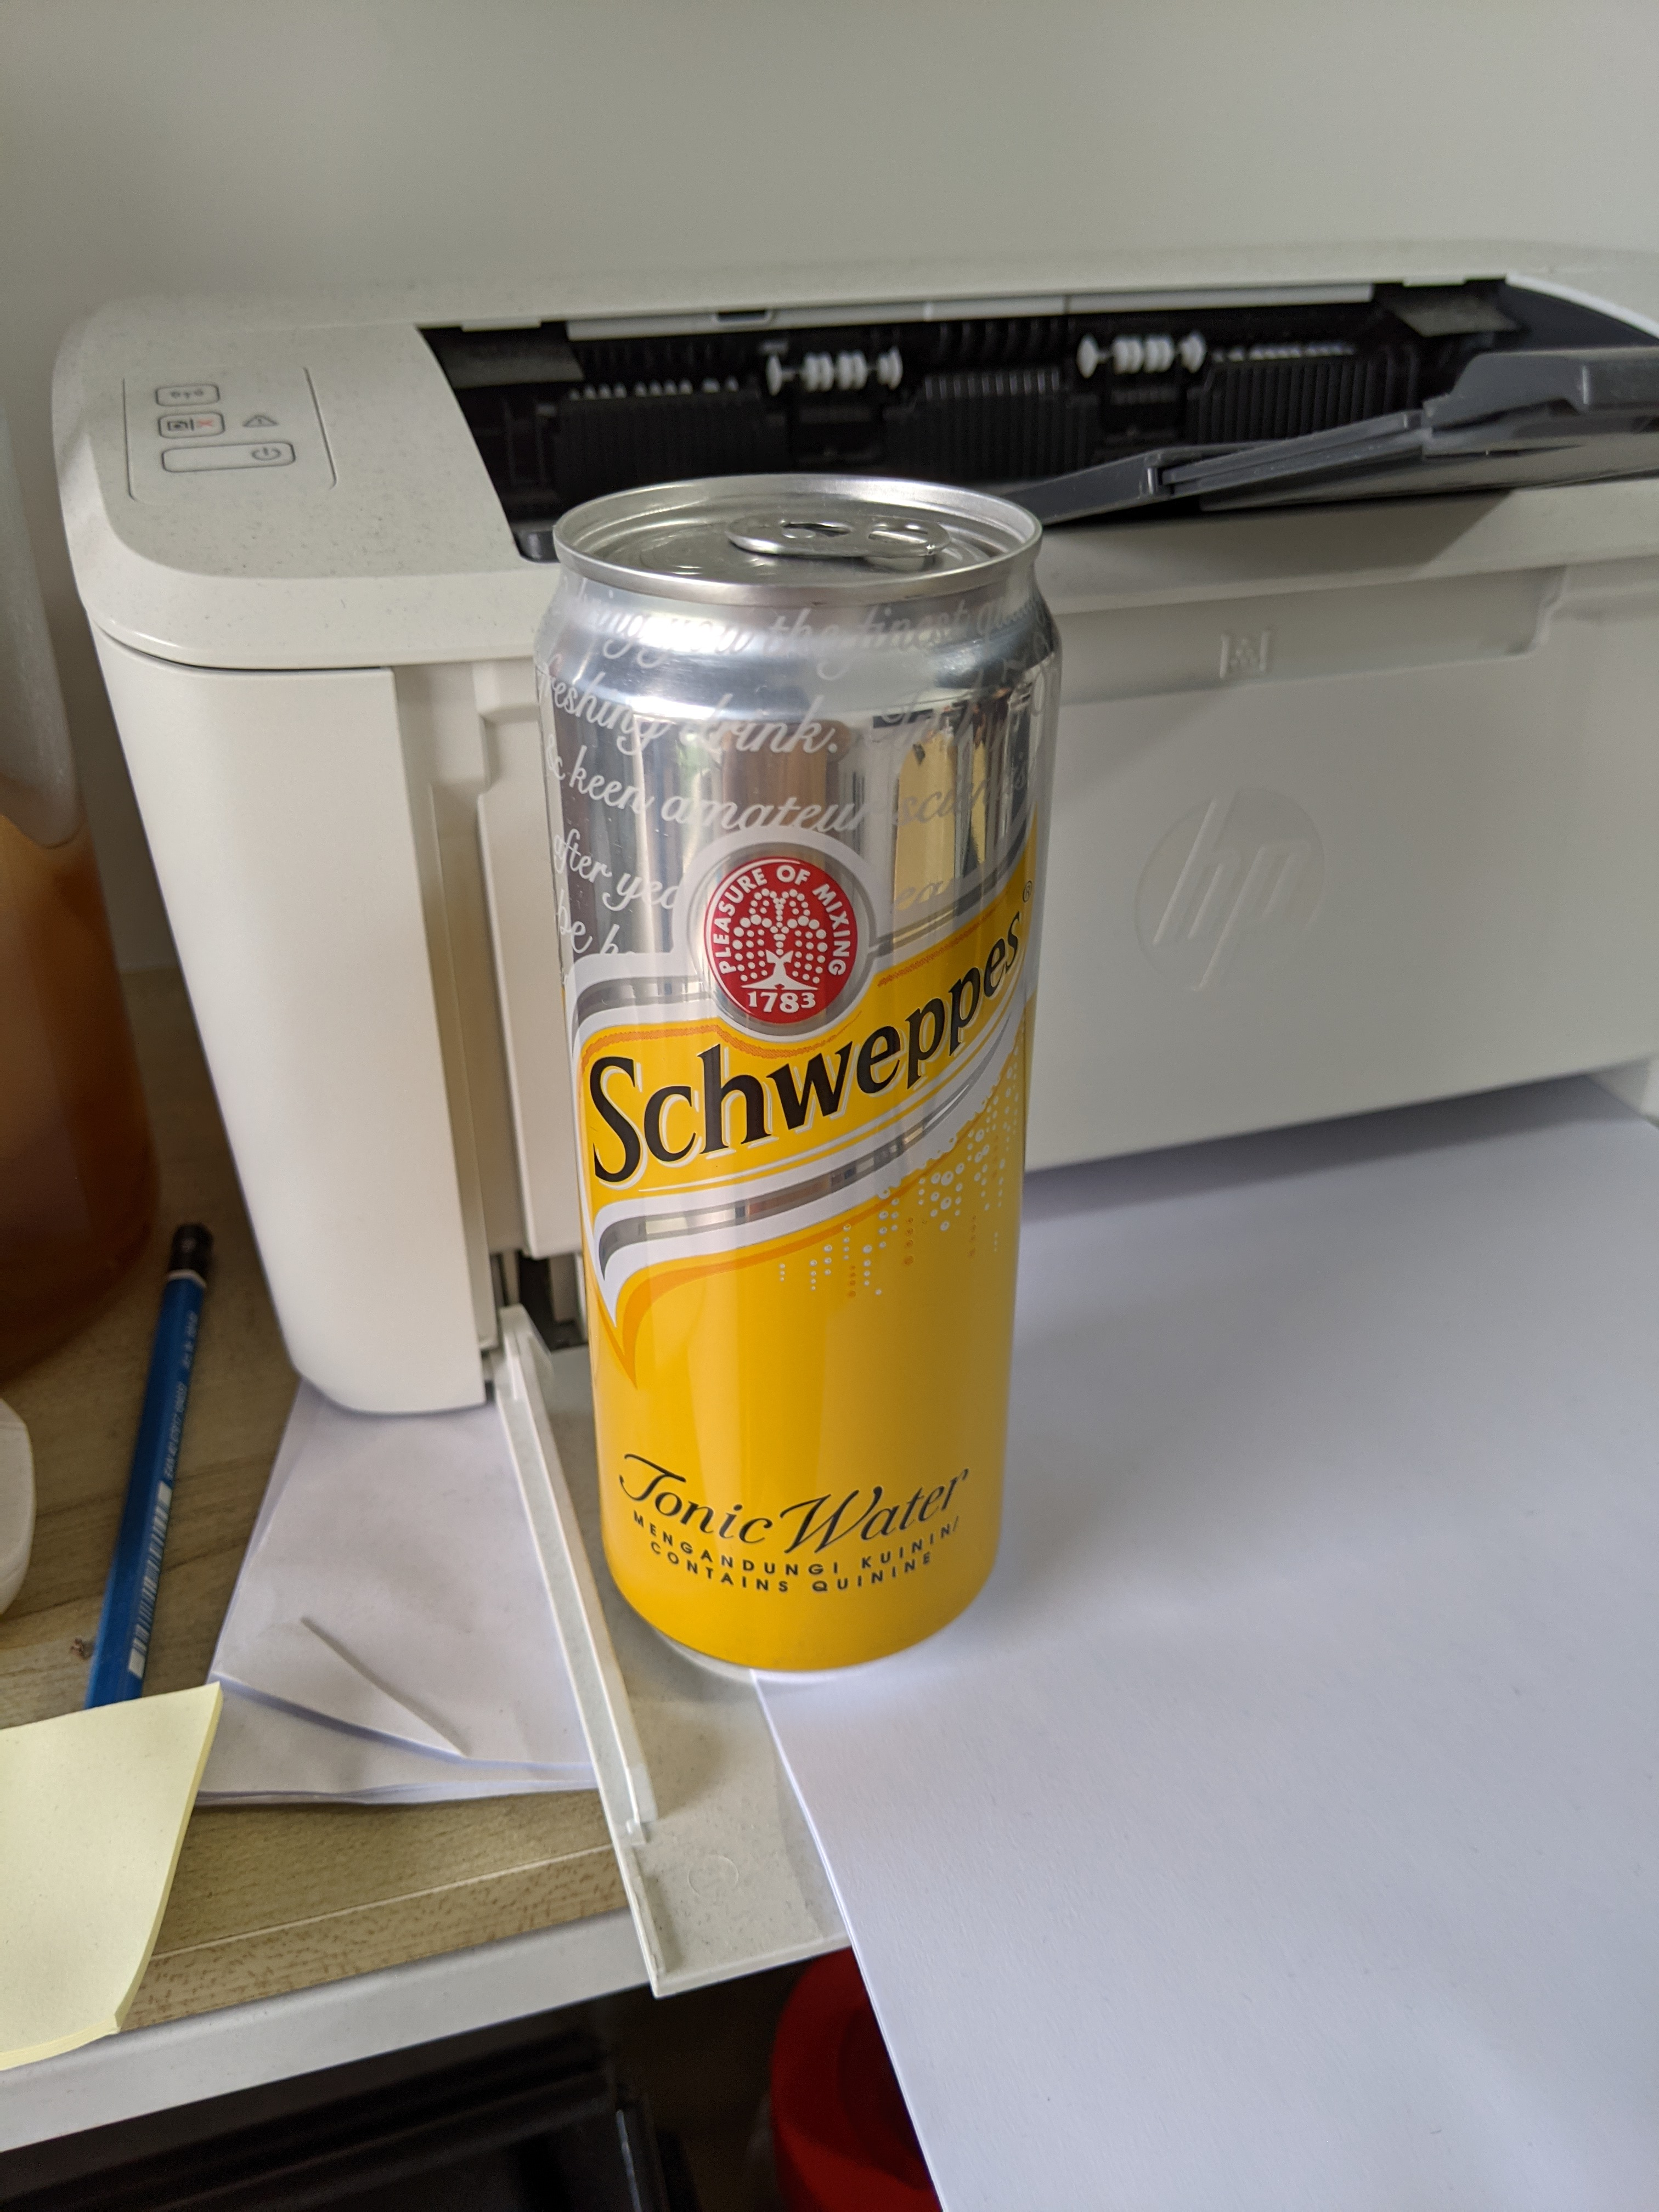schweppes drink can tonic water: (523, 449, 1086, 1716)
